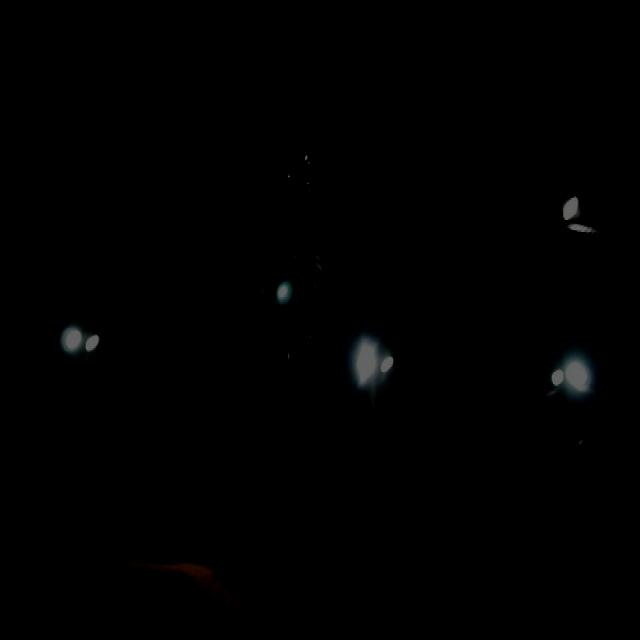Motorbike: (206, 247, 337, 384)
